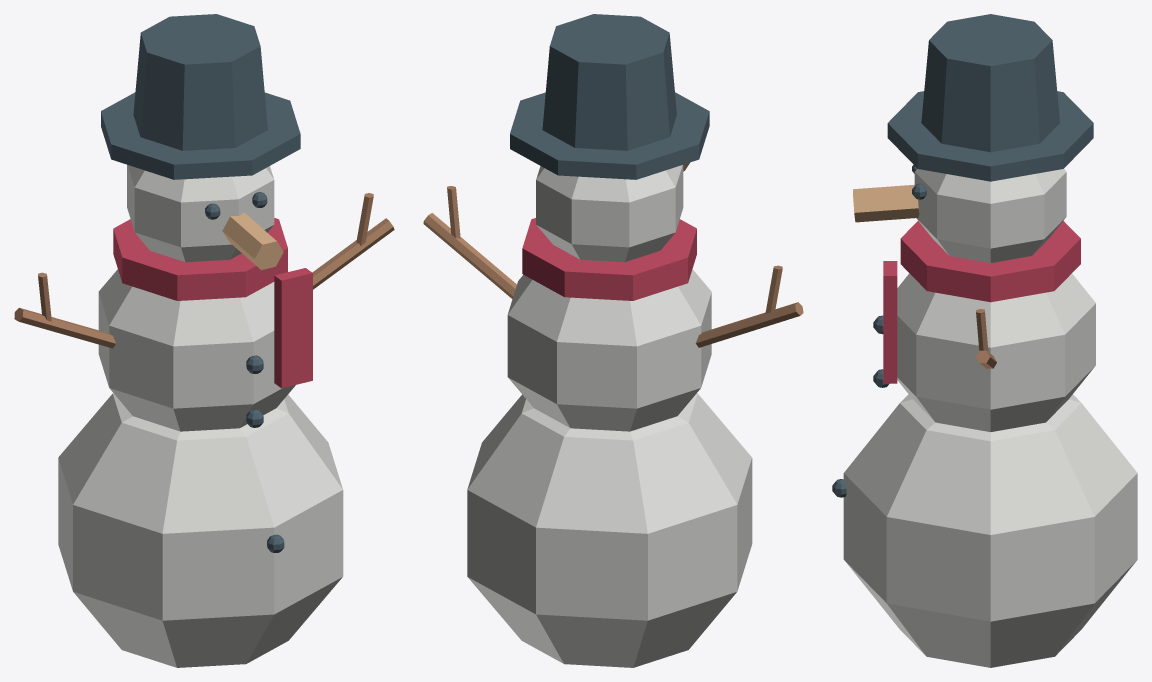
Rendered from snowman_a.glb.
The picture shows the model from 3 angles, left to right: view 1: azimuth 30°, elevation 25°; view 2: azimuth 150°, elevation 25°; view 3: azimuth 270°, elevation 25°; orthographic projection.
Visible parts, largest first — view 1: scarf-snowman-snow, scarf-snowman-iron, scarf-snowman-red, scarf-snowman-wood, scarf-snowman-cedar; view 2: scarf-snowman-snow, scarf-snowman-iron, scarf-snowman-red, scarf-snowman-wood; view 3: scarf-snowman-snow, scarf-snowman-iron, scarf-snowman-red, scarf-snowman-cedar, scarf-snowman-wood.
Boxes of the visible parts, <box> form: scarf-snowman-snow: <box>58,164,343,667</box>; scarf-snowman-iron: <box>101,14,300,552</box>; scarf-snowman-red: <box>113,218,312,388</box>; scarf-snowman-wood: <box>14,193,394,348</box>; scarf-snowman-cedar: <box>222,213,283,269</box>; scarf-snowman-snow: <box>467,165,752,667</box>; scarf-snowman-iron: <box>510,14,709,179</box>; scarf-snowman-red: <box>522,218,696,300</box>; scarf-snowman-wood: <box>423,186,803,347</box>; scarf-snowman-snow: <box>843,169,1137,667</box>; scarf-snowman-iron: <box>832,14,1093,497</box>; scarf-snowman-red: <box>883,221,1080,383</box>; scarf-snowman-cedar: <box>853,184,919,222</box>; scarf-snowman-wood: <box>976,309,996,368</box>.
Size of the model in its own units: 1.68 by 2.64 by 1.19.
